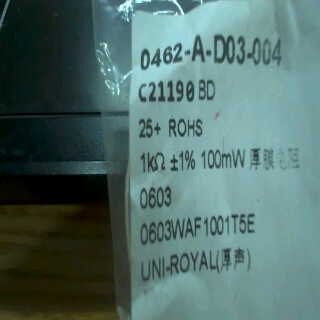1kR: (137, 147, 170, 179)
